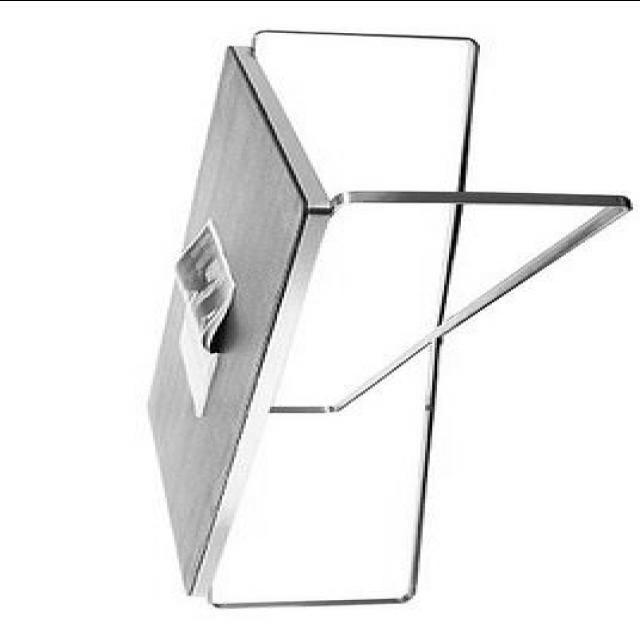table: (145, 26, 630, 614)
